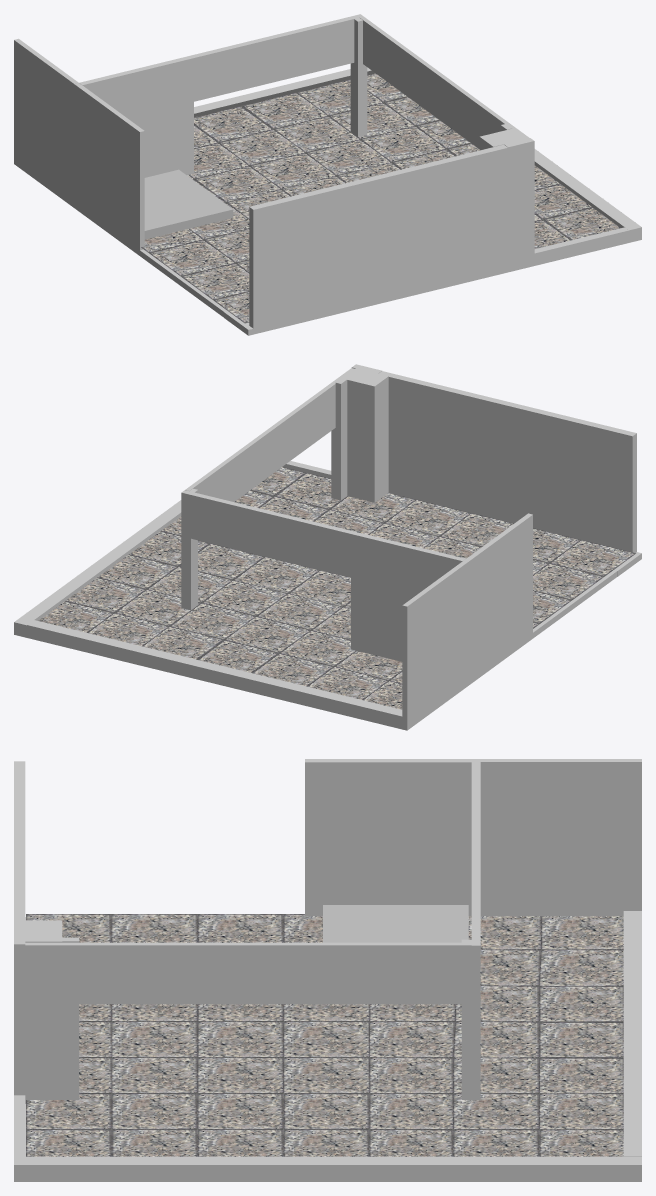
Rendered from cafeteria12.fbx.
The picture shows the model from 3 angles, top to bottom: view 1: azimuth 30°, elevation 25°; view 2: azimuth 150°, elevation 25°; view 3: azimuth 270°, elevation 25°; orthographic projection. The views are drawn at different scales.
Parts seen in each view (by area): view 1: Cube.042, Plane, Cube.011; view 2: Cube.042, Plane; view 3: Cube.042, Plane, Cube.011.
Part boxes in pixels (<box>): Cube.042: <box>14,14,641,335</box>; Plane: <box>141,73,620,323</box>; Cube.011: <box>144,169,233,239</box>; Cube.042: <box>14,364,641,730</box>; Plane: <box>38,467,635,709</box>; Cube.042: <box>14,759,641,1181</box>; Plane: <box>26,914,623,1156</box>; Cube.011: <box>323,905,468,942</box>.
Size of the model in its own units: 1810 by 551 by 1870.
